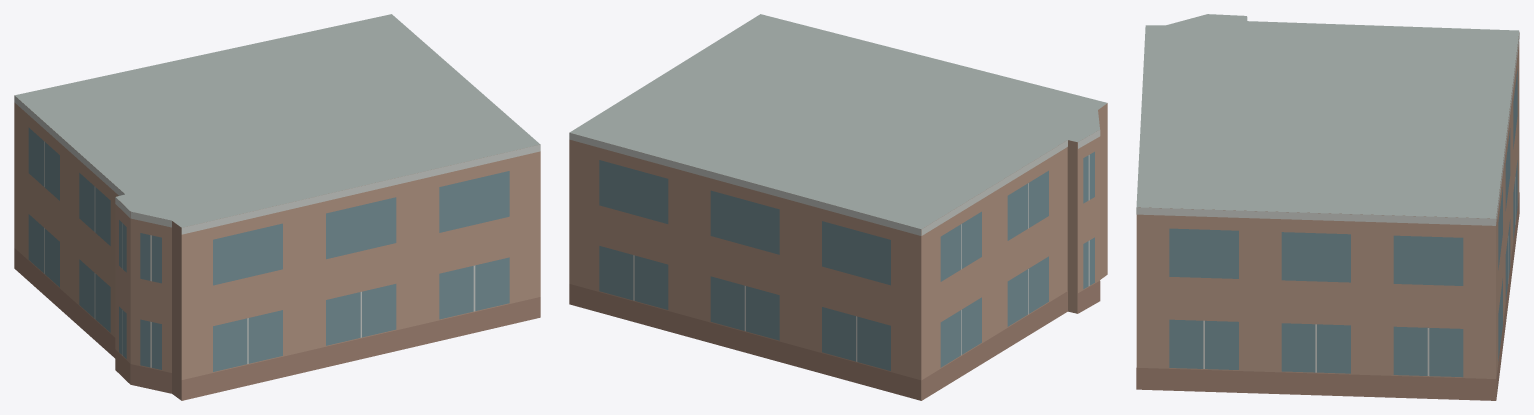
File: survey-upis-32849203.glb
3 renders of one model, left to right at view 1: azimuth 30°, elevation 25°; view 2: azimuth 150°, elevation 25°; view 3: azimuth 270°, elevation 25°, orthographic. The views are drawn at different scales.
Parts seen in each view (by area): view 1: survey-upis-32849203.tmp; view 2: survey-upis-32849203.tmp; view 3: survey-upis-32849203.tmp.
Boxes of the visible parts, bbox=[...] form: survey-upis-32849203.tmp: bbox=[14, 14, 540, 400]; survey-upis-32849203.tmp: bbox=[569, 14, 1107, 400]; survey-upis-32849203.tmp: bbox=[1136, 14, 1519, 400].
Size of the model in its own units: 14.7 by 6.1 by 11.63.
